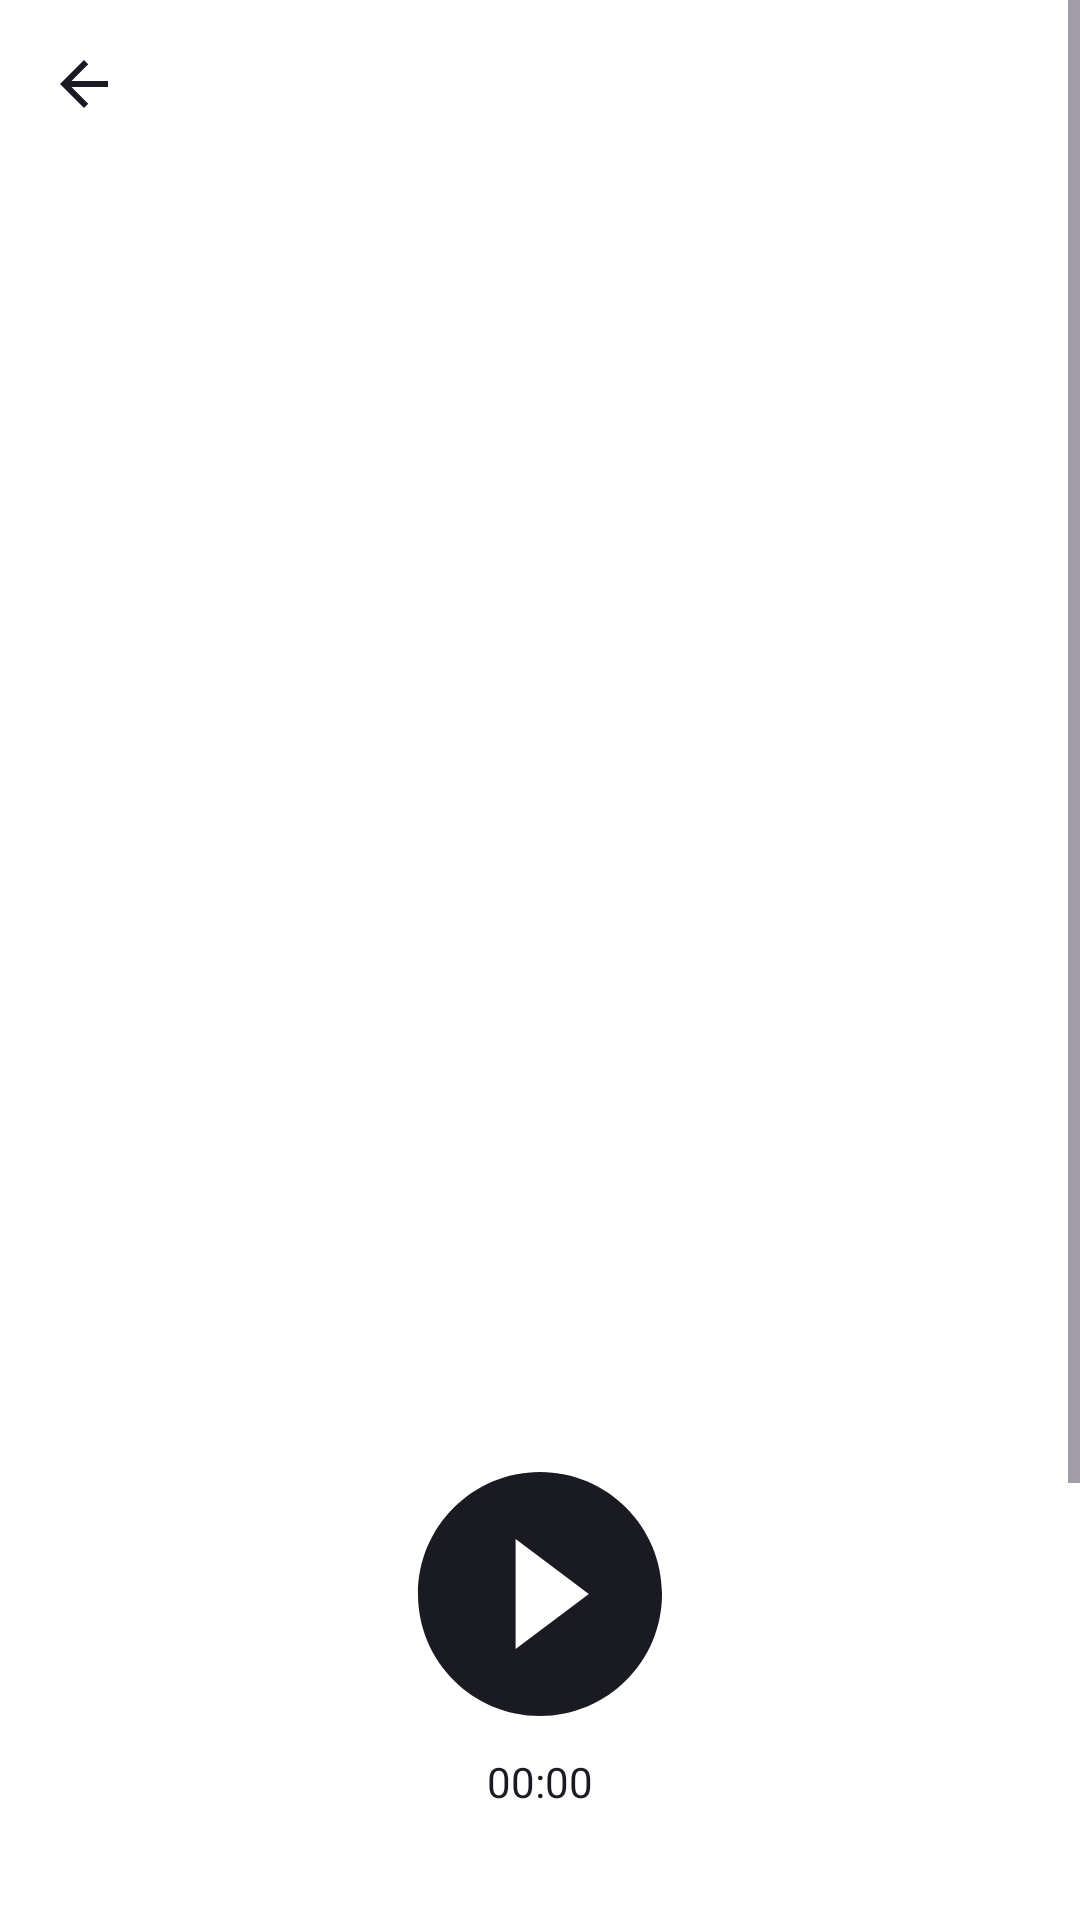

Named icons in this screenshot (1080 × 1920) and their bounding boxes, (x1, y1, x2, y2):
arrow left: (60, 60, 108, 108)
play: (418, 1472, 662, 1716)
